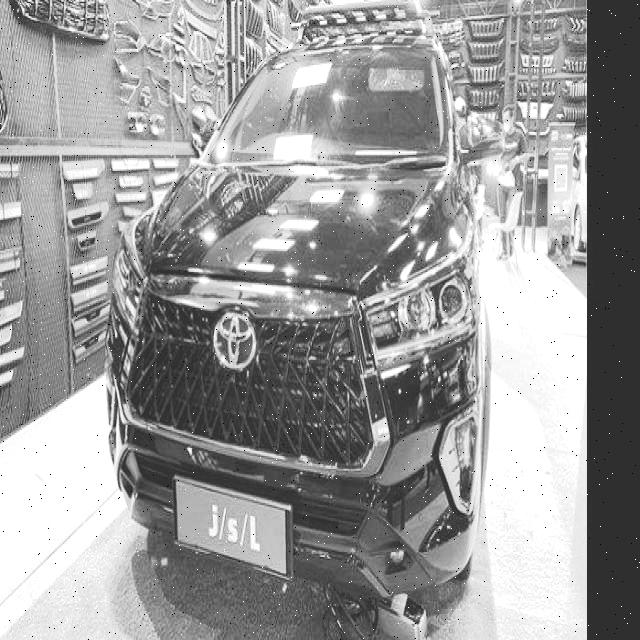Car: (104, 0, 511, 612)
